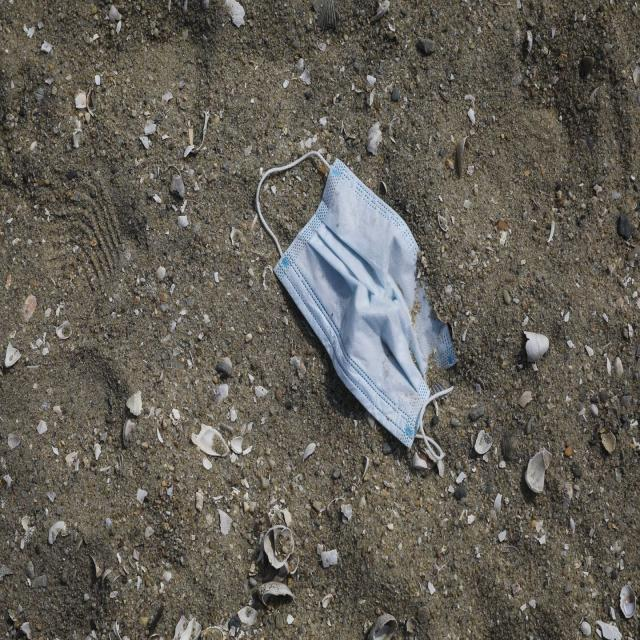non-organic waste: (258, 151, 458, 478)
